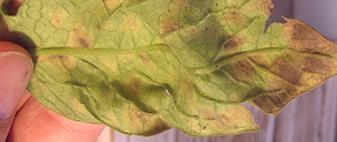Tomato mold leaf: (18, 0, 337, 140)
